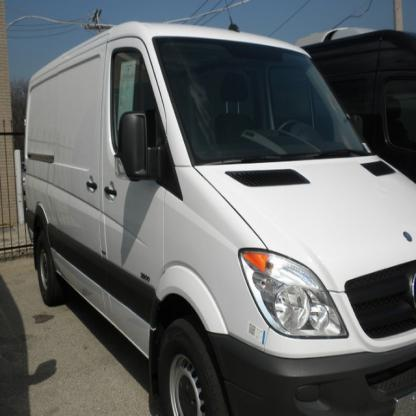Vehicle: (23, 18, 416, 415)
